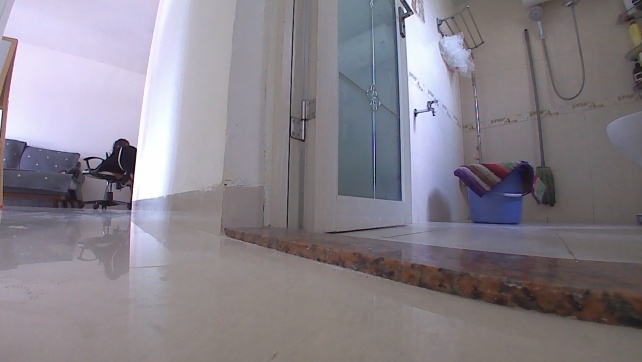door_anno: (262, 0, 413, 235)
sofa: (0, 135, 88, 207)
